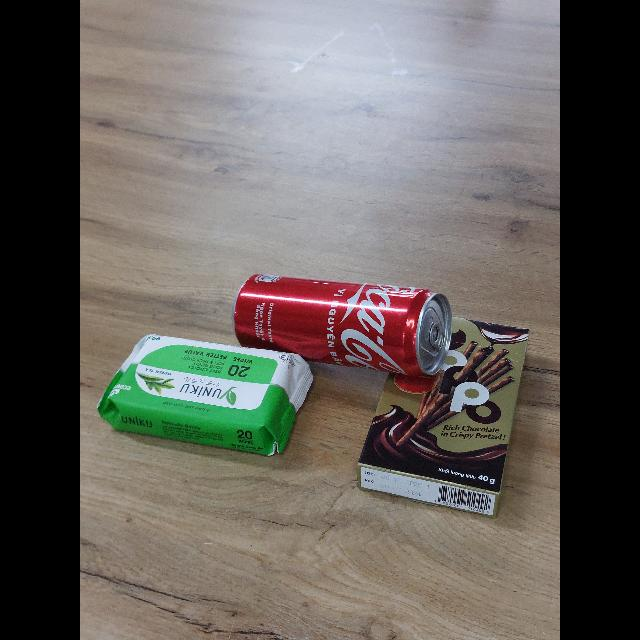banh_toppo_socola: (358, 318, 529, 516)
coca_cola: (233, 274, 455, 380)
khan_giay: (99, 335, 313, 455)
